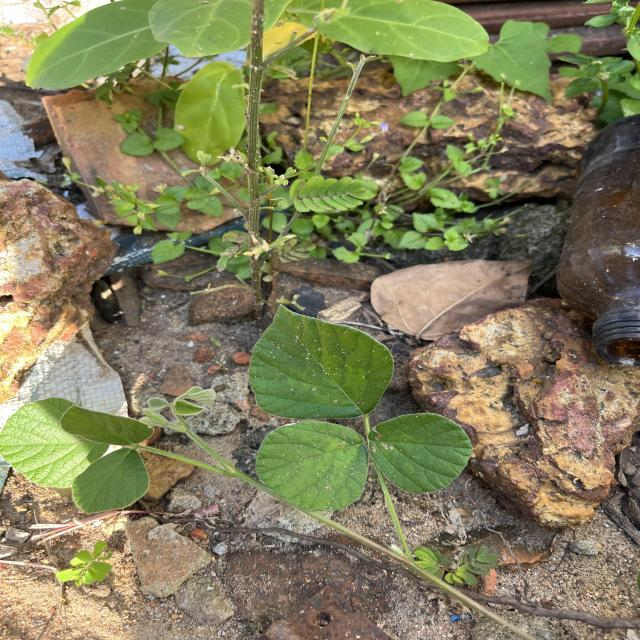Pseudarthria viscida: (246, 301, 476, 514)
